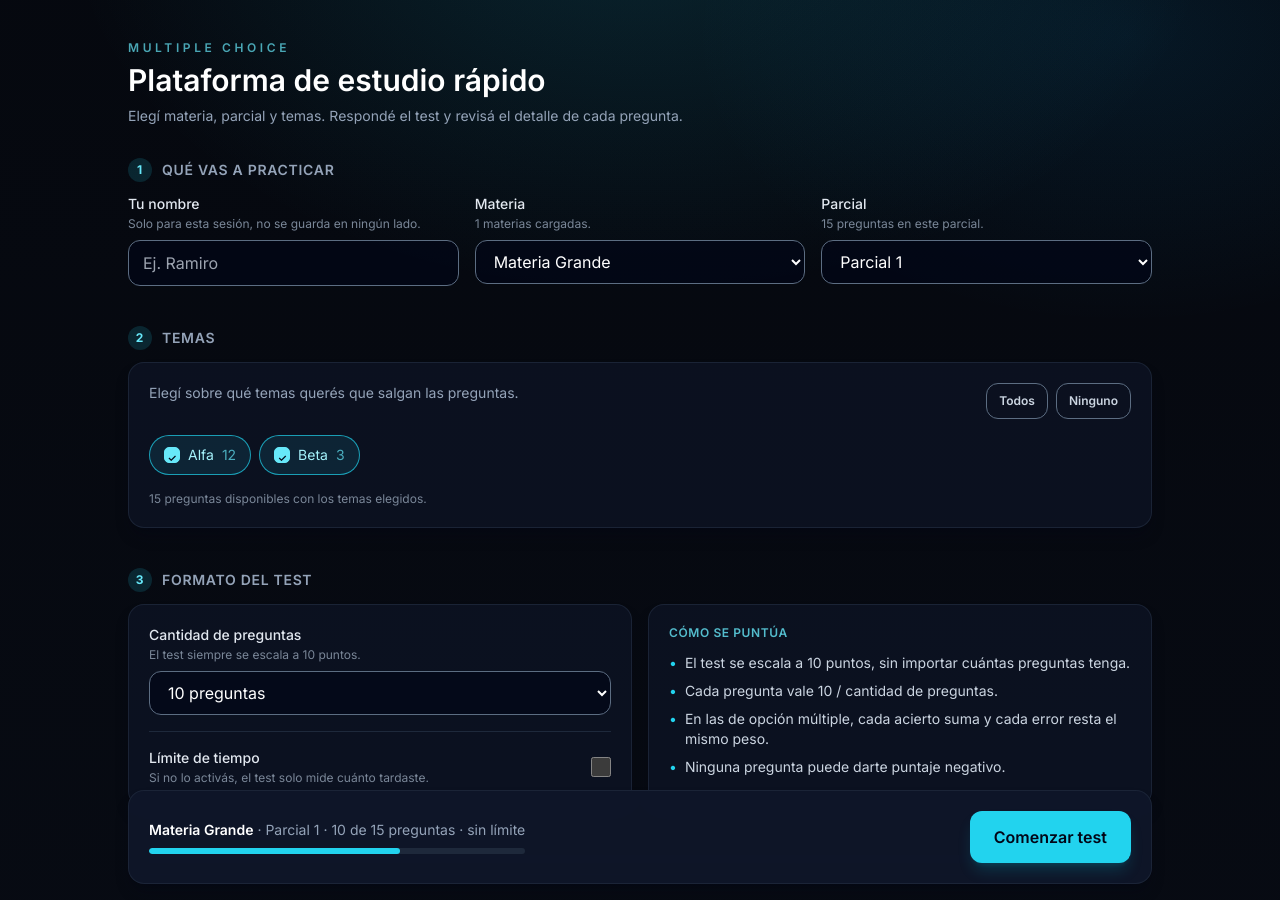
TestApp · pantalla de inicio › filtra las preguntas disponibles al destildar un tema
The image size is (1280, 900).
Check: the text "15 preguntas disponibles con los temas elegidos." is shown, box x1=149 y1=491 x2=427 y2=506
Click the button "✓ Beta 3" at (309, 455), box x1=259 y1=435 x2=360 y2=475
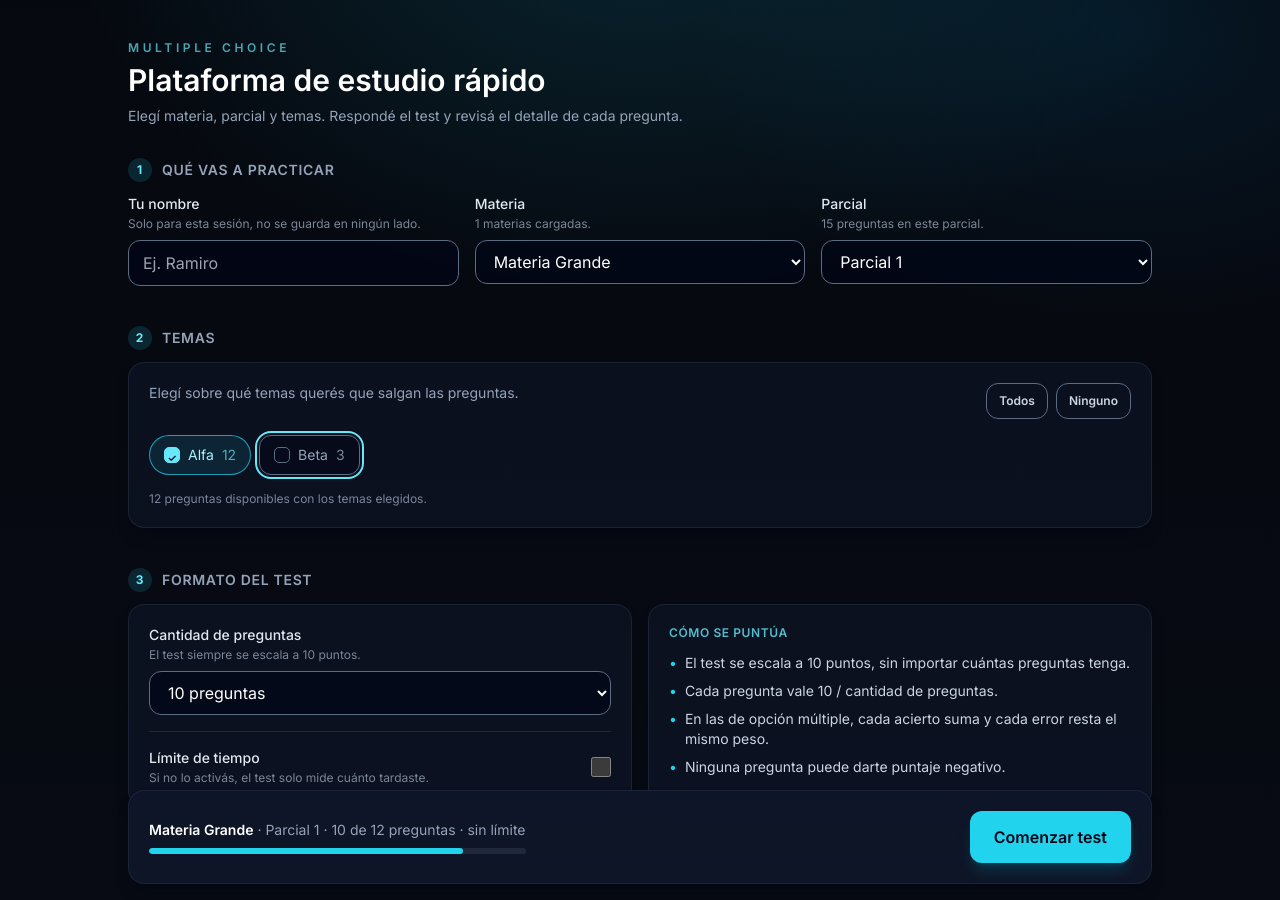
Check: the text "12 preguntas disponibles con los temas elegidos." is shown, box x1=149 y1=491 x2=427 y2=506
